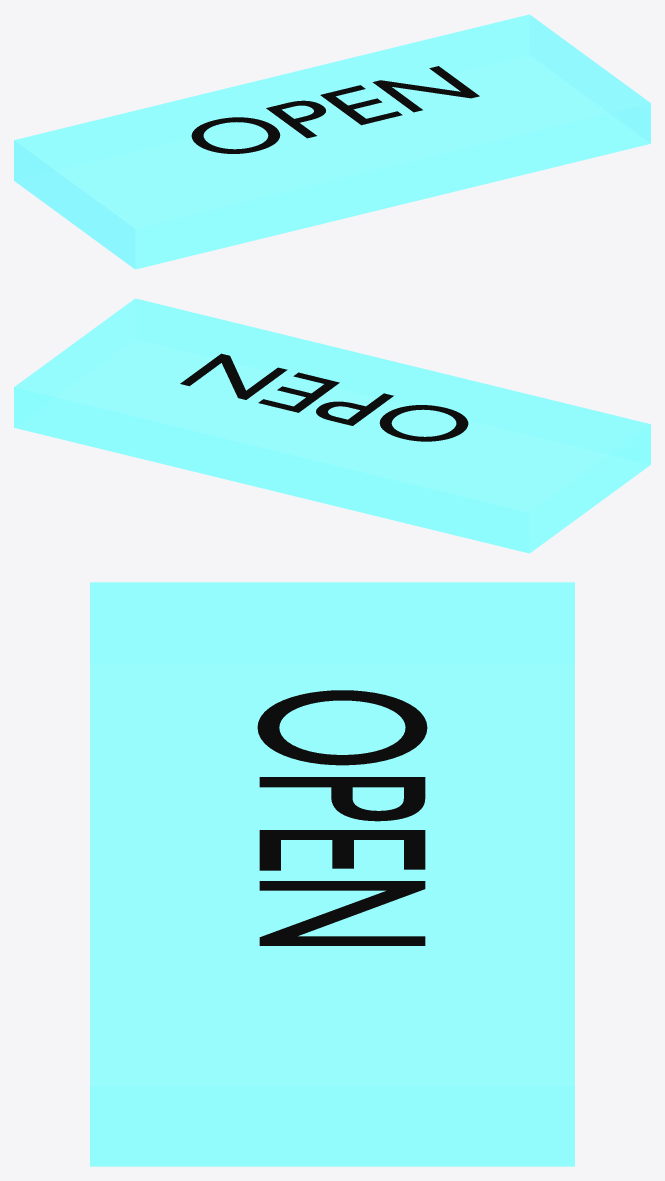
File: openbutton2.glb
3 views of the same model, one above another, from view 1: azimuth 30°, elevation 25°; view 2: azimuth 150°, elevation 25°; view 3: azimuth 270°, elevation 25° (orthographic). The views are drawn at different scales.
Visible parts, largest first — view 1: Cube, Text; view 2: Cube, Text; view 3: Cube, Text.
Part boxes in pixels (box(x1,y1,x2,y2)): Cube: box(14, 14, 650, 269); Text: box(191, 66, 479, 153); Cube: box(14, 298, 650, 553); Text: box(180, 353, 468, 441); Cube: box(90, 582, 574, 1166); Text: box(257, 690, 427, 945).
Bounding box in the file's own units: 4.91 × 0.4342 × 2.
